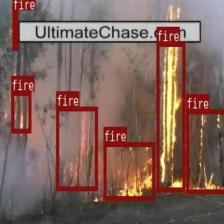fire: (156, 42, 184, 190), (55, 106, 97, 190), (185, 108, 224, 192), (103, 142, 155, 199), (11, 91, 30, 132), (12, 10, 18, 50)
